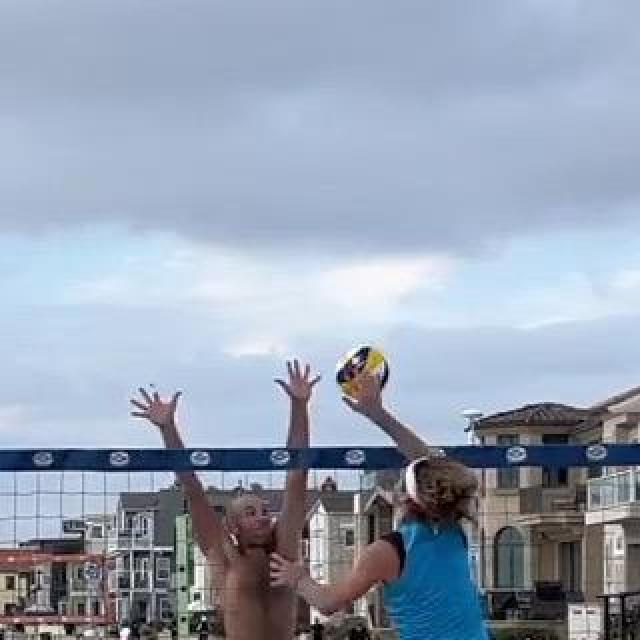volleyball: (336, 344, 390, 400)
